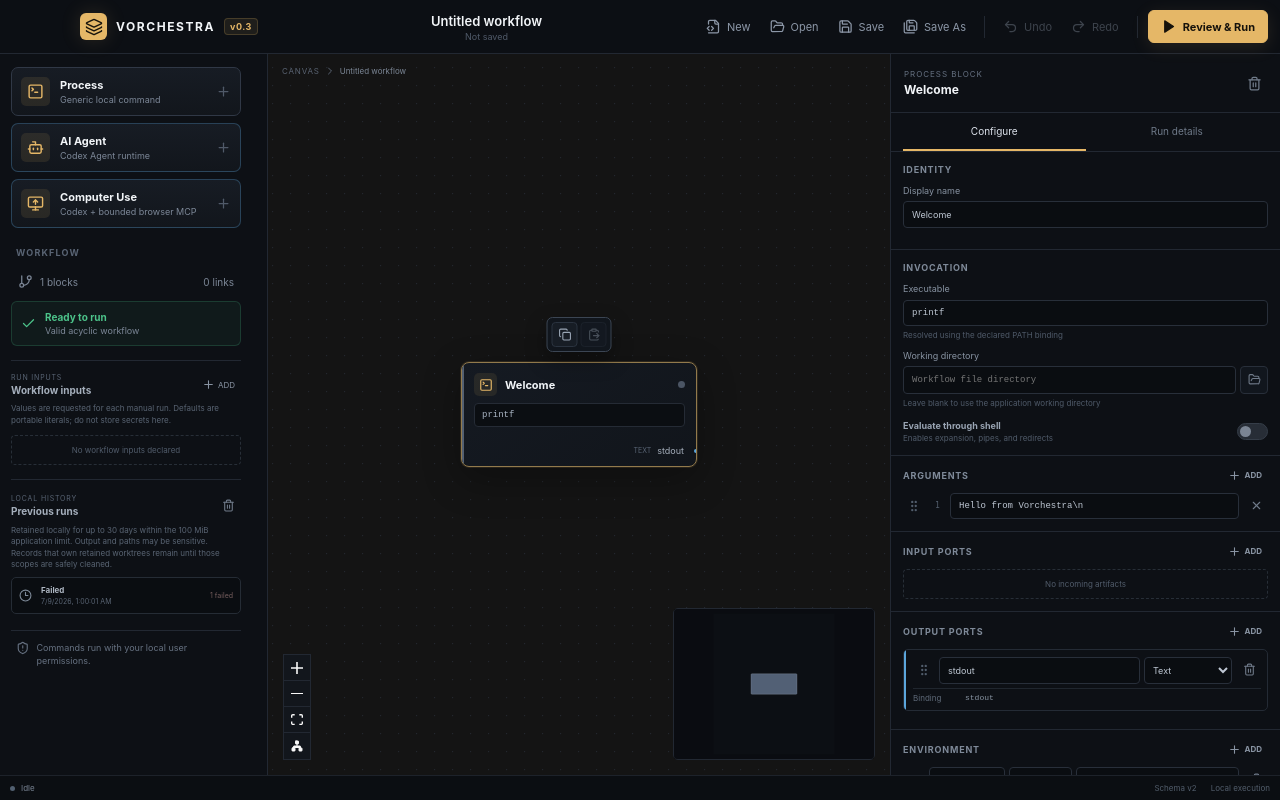
Test: block configuration ordering › restores retained failed-run evidence and clears local history
Click the button "failed 7/9/2026, 1:00:01 AM 1 failed" at coordinates (126, 595), box [11,577,241,614]
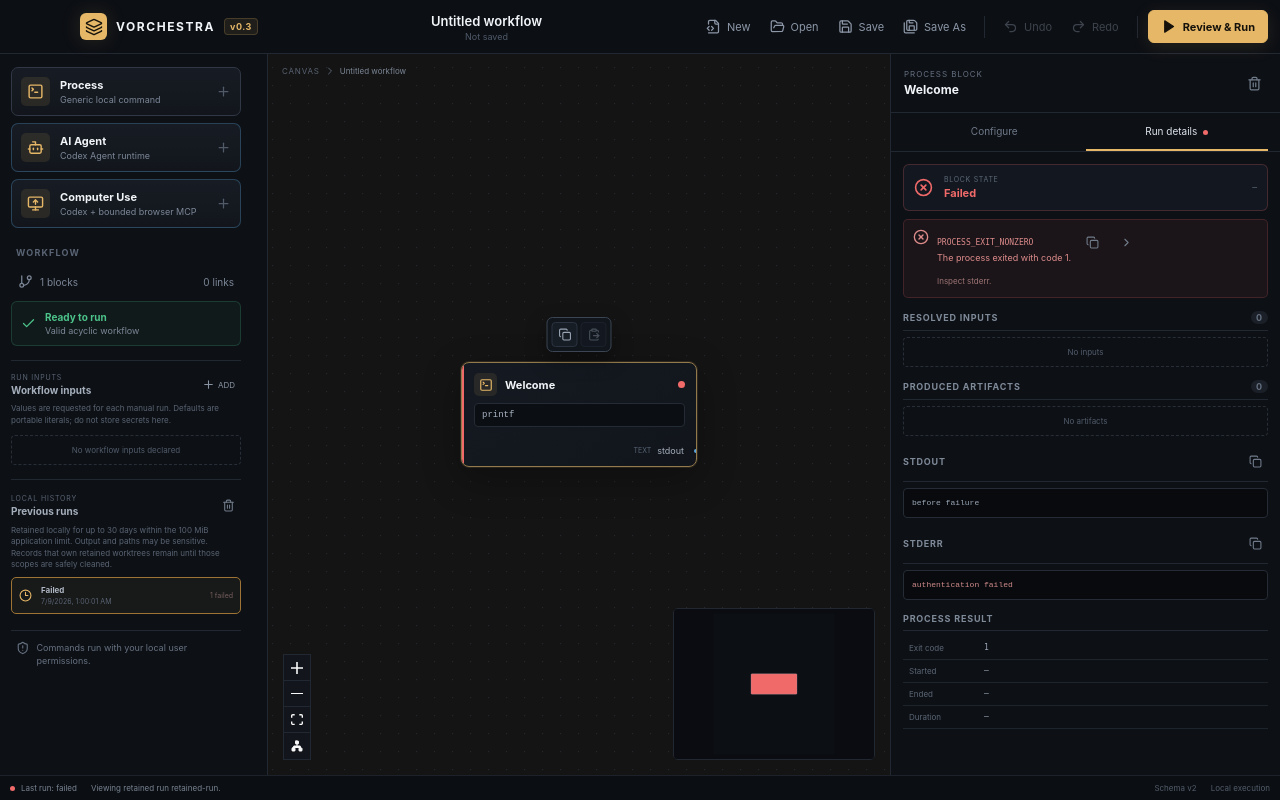
Expected: the text "process_exit_nonzero" is shown, [937,238,1033,247]
Expected: the text "authentication failed" is shown, [903,570,1268,600]
Click the button named "Clear workflow run history" at coordinates (228, 505), box [215,492,241,518]
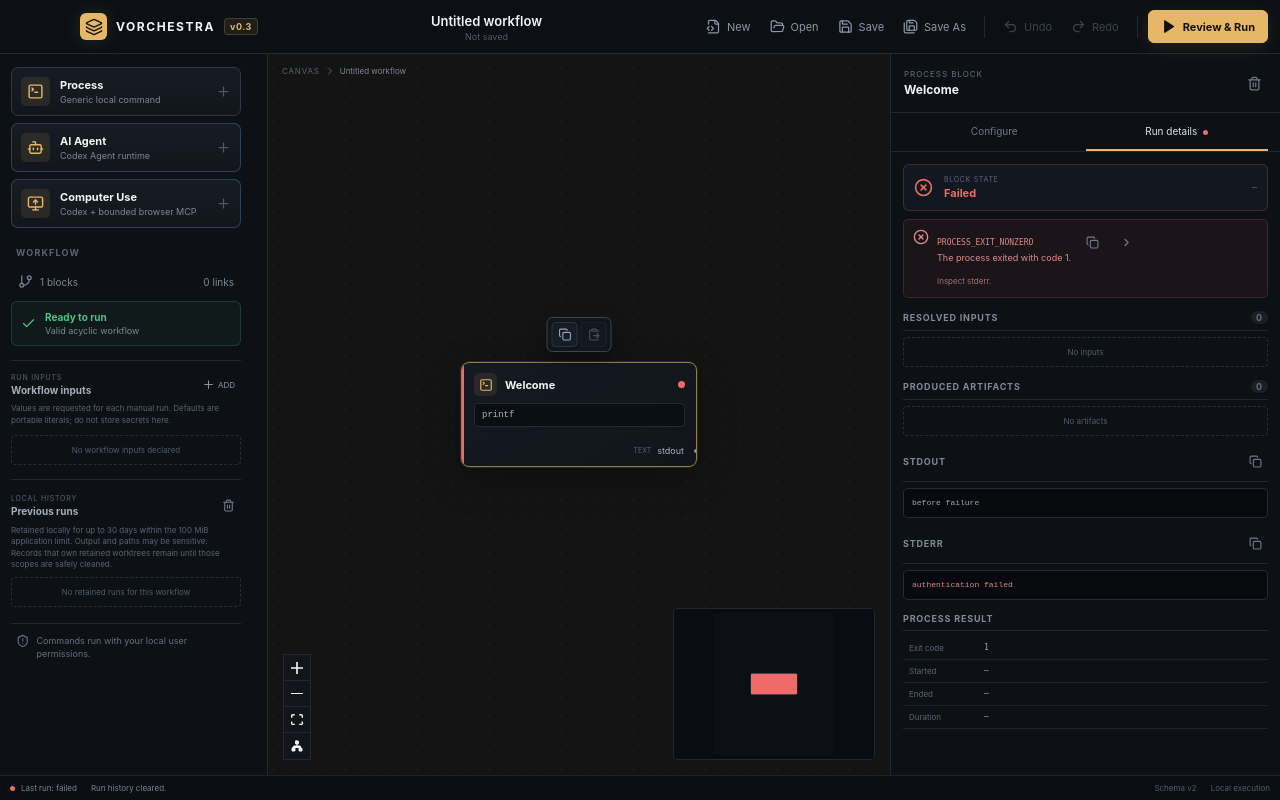
Expected: the text "No retained runs for this workflow" is shown, [11,577,241,607]
